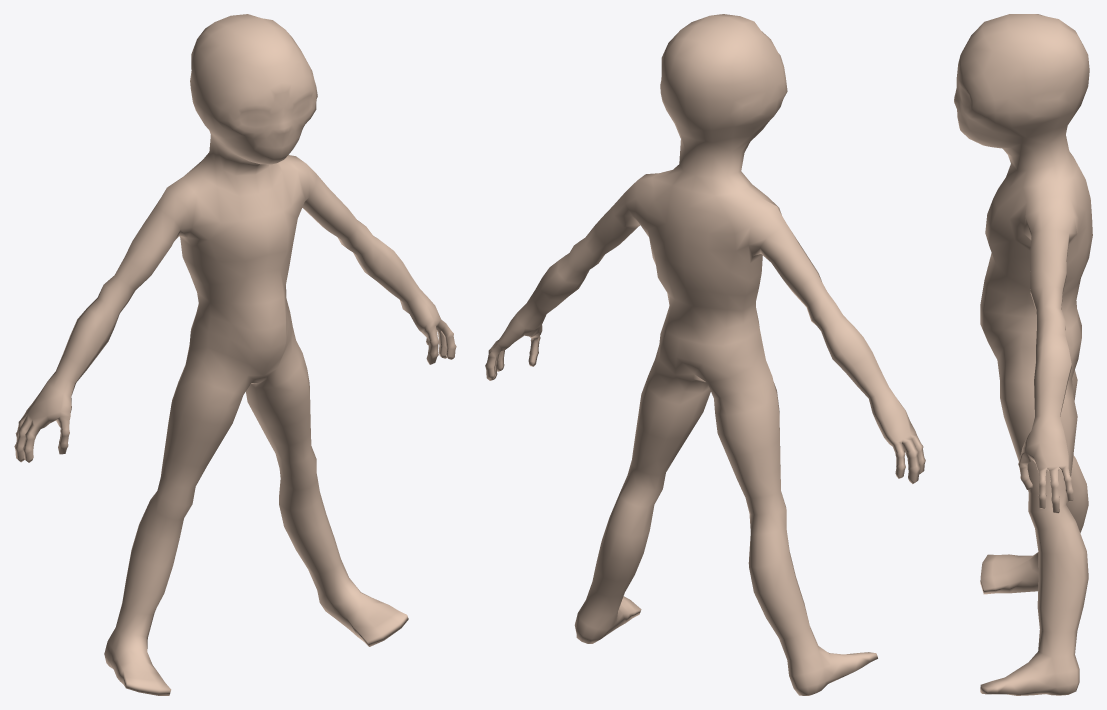
Rendered from alien.fbx.
3 renders of one model, left to right at view 1: azimuth 30°, elevation 25°; view 2: azimuth 150°, elevation 25°; view 3: azimuth 270°, elevation 25°, orthographic.
Visible parts, largest first — view 1: Alien01; view 2: Alien01; view 3: Alien01.
Part boxes in pixels (bbox=[...]): Alien01: bbox=[14, 14, 456, 695]; Alien01: bbox=[485, 14, 925, 695]; Alien01: bbox=[954, 14, 1092, 695].
Bounding box in the file's own units: 151 × 210 × 42.52.
